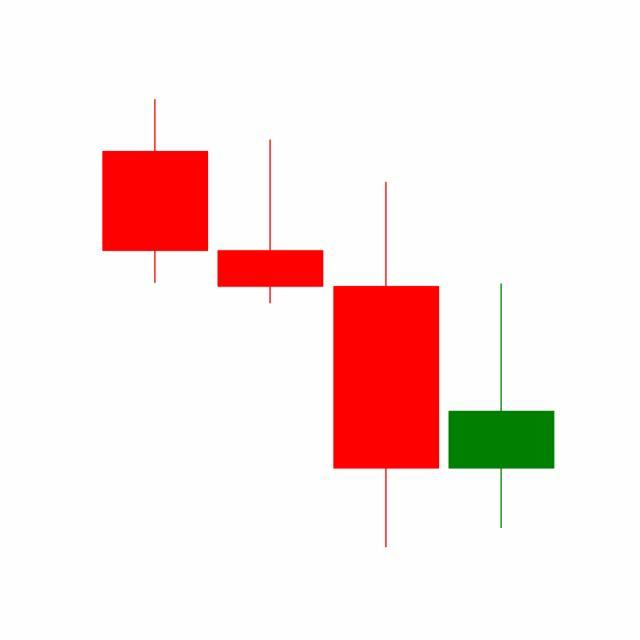Spinning Top: (444, 282, 560, 533)
